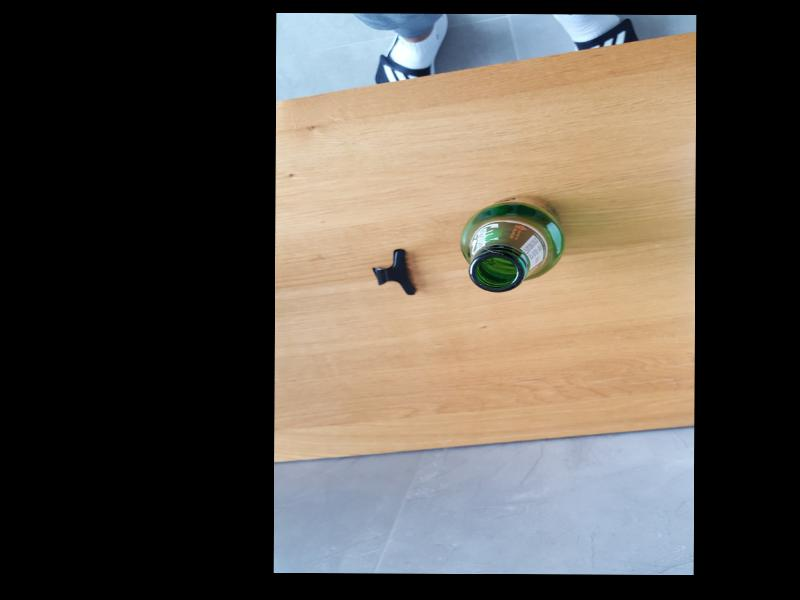Beer: (457, 194, 564, 292)
